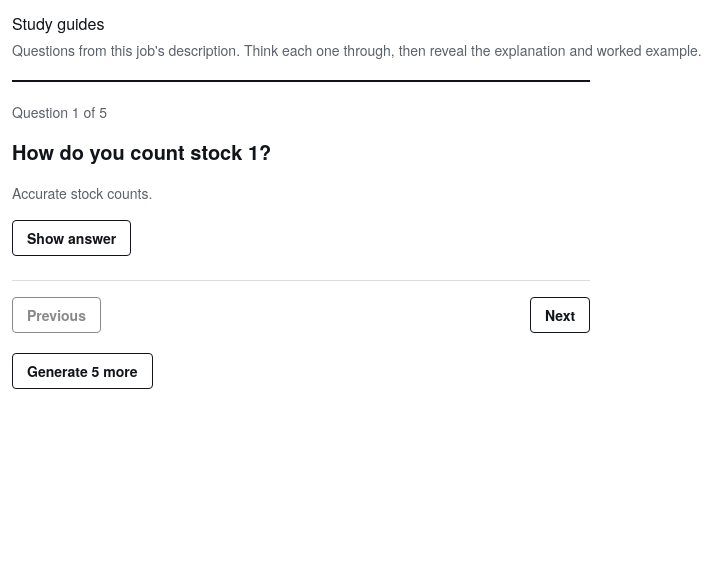
Test: keeps the answer readable when an optional saved diagram is malformed
Expected: the heading "How do you count stock 1?" is shown, [12,137,271,166]
Click the button "Show answer" at [72, 238], box [12,220,131,256]
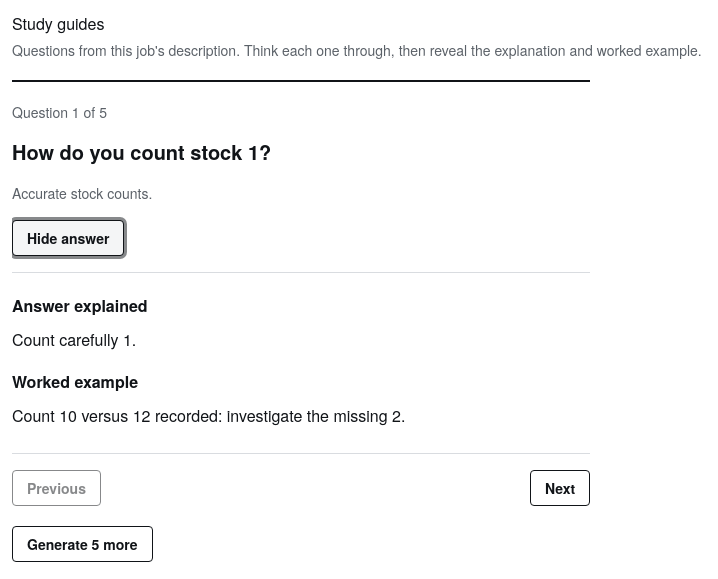
Now the text "Count carefully 1." is shown, box [12,328,136,351]
